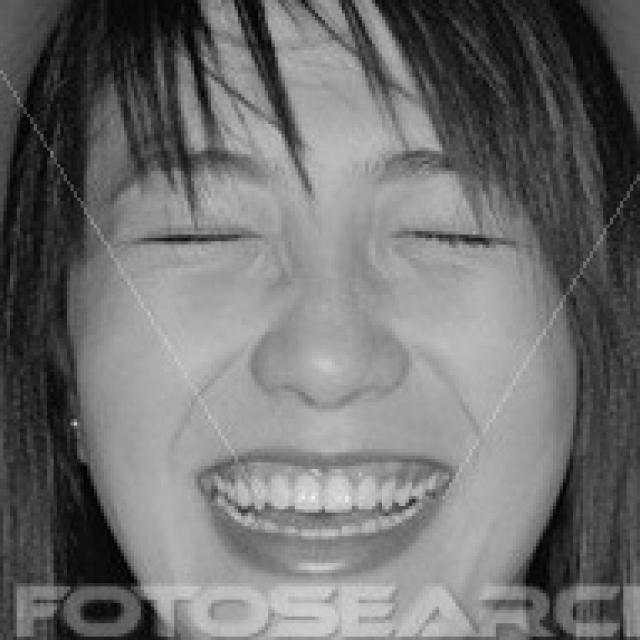real: (95, 8, 562, 628), (128, 194, 524, 266)
